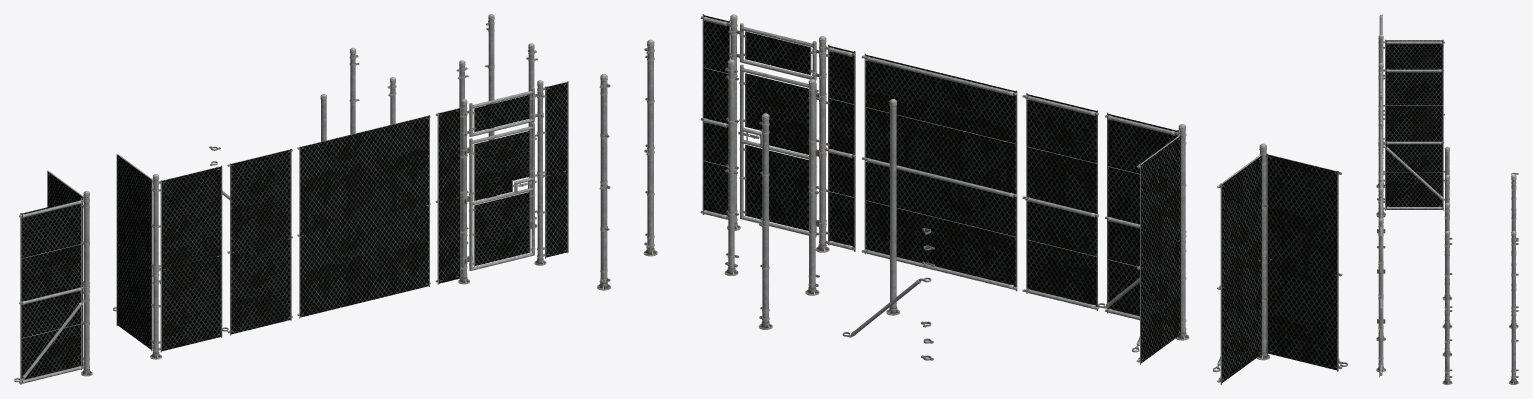
File: modular_chainlink_fence.glb
3 views of the same model, side by side, from view 1: azimuth 30°, elevation 25°; view 2: azimuth 150°, elevation 25°; view 3: azimuth 270°, elevation 25° (orthographic). The views are drawn at different scales.
Visible parts, largest first — view 1: modular_chainlink_fence_double, modular_chainlink_fence_corner_outer, modular_chainlink_fence_door_frame, modular_chainlink_fence_corner_inner, modular_chainlink_fence, modular_chainlink_fence_door_gate, modular_chainlink_fence_start_01_corner_02, modular_chainlink_fence_start_01_corner_01, modular_chainlink_fence_end_02; view 2: modular_chainlink_fence_double, modular_chainlink_fence_corner_inner, modular_chainlink_fence_corner_outer, modular_chainlink_fence_door_frame, modular_chainlink_fence, modular_chainlink_fence_door_gate, modular_chainlink_fence_start_01_corner_02, modular_chainlink_post_middle, modular_chainlink_fence_end_01, modular_chainlink_fence_start_01_corner_01, modular_chainlink_fence_end_02, modular_chainlink_fence_post; view 3: modular_chainlink_fence_corner_outer, modular_chainlink_fence_corner_inner, modular_chainlink_fence_door_frame, modular_chainlink_fence_start_01_corner_01, modular_chainlink_fence_start_01_corner_02, modular_chainlink_fence_end_02, modular_chainlink_fence_double, modular_chainlink_post_middle, modular_chainlink_fence_end_01, modular_chainlink_fence_post.
Part boxes in pixels (bbox=[...]): modular_chainlink_fence_double: bbox=[297, 115, 430, 318]; modular_chainlink_fence_corner_outer: bbox=[113, 154, 228, 359]; modular_chainlink_fence_door_frame: bbox=[435, 80, 568, 284]; modular_chainlink_fence_corner_inner: bbox=[14, 170, 92, 384]; modular_chainlink_fence: bbox=[227, 148, 292, 335]; modular_chainlink_fence_door_gate: bbox=[469, 123, 535, 270]; modular_chainlink_fence_start_01_corner_02: bbox=[485, 14, 496, 198]; modular_chainlink_fence_start_01_corner_01: bbox=[526, 43, 537, 228]; modular_chainlink_fence_end_02: bbox=[349, 47, 359, 134]; modular_chainlink_fence_double: bbox=[861, 53, 1017, 291]; modular_chainlink_fence_corner_inner: bbox=[1213, 143, 1347, 384]; modular_chainlink_fence_corner_outer: bbox=[1097, 112, 1189, 365]; modular_chainlink_fence_door_frame: bbox=[700, 14, 855, 252]; modular_chainlink_fence: bbox=[1022, 93, 1098, 310]; modular_chainlink_fence_door_gate: bbox=[739, 64, 816, 236]; modular_chainlink_fence_start_01_corner_02: bbox=[597, 74, 610, 290]; modular_chainlink_post_middle: bbox=[724, 59, 738, 275]; modular_chainlink_fence_end_01: bbox=[805, 79, 819, 295]; modular_chainlink_fence_start_01_corner_01: bbox=[643, 39, 657, 256]; modular_chainlink_fence_end_02: bbox=[758, 113, 772, 329]; modular_chainlink_fence_post: bbox=[886, 99, 900, 315]; modular_chainlink_fence_corner_outer: bbox=[1376, 62, 1449, 233]; modular_chainlink_fence_corner_inner: bbox=[1376, 14, 1449, 188]; modular_chainlink_fence_door_frame: bbox=[1376, 182, 1385, 377]; modular_chainlink_fence_start_01_corner_01: bbox=[1442, 231, 1452, 384]; modular_chainlink_fence_start_01_corner_02: bbox=[1509, 231, 1518, 384]; modular_chainlink_fence_end_02: bbox=[1509, 175, 1518, 328]; modular_chainlink_fence_double: bbox=[1379, 126, 1382, 183]; modular_chainlink_post_middle: bbox=[1442, 203, 1452, 356]; modular_chainlink_fence_end_01: bbox=[1442, 175, 1452, 328]; modular_chainlink_fence_post: bbox=[1442, 146, 1452, 300].
Size of the model in its own units: 8.12 by 2.52 by 2.15.
2 materials, 2 textured.
